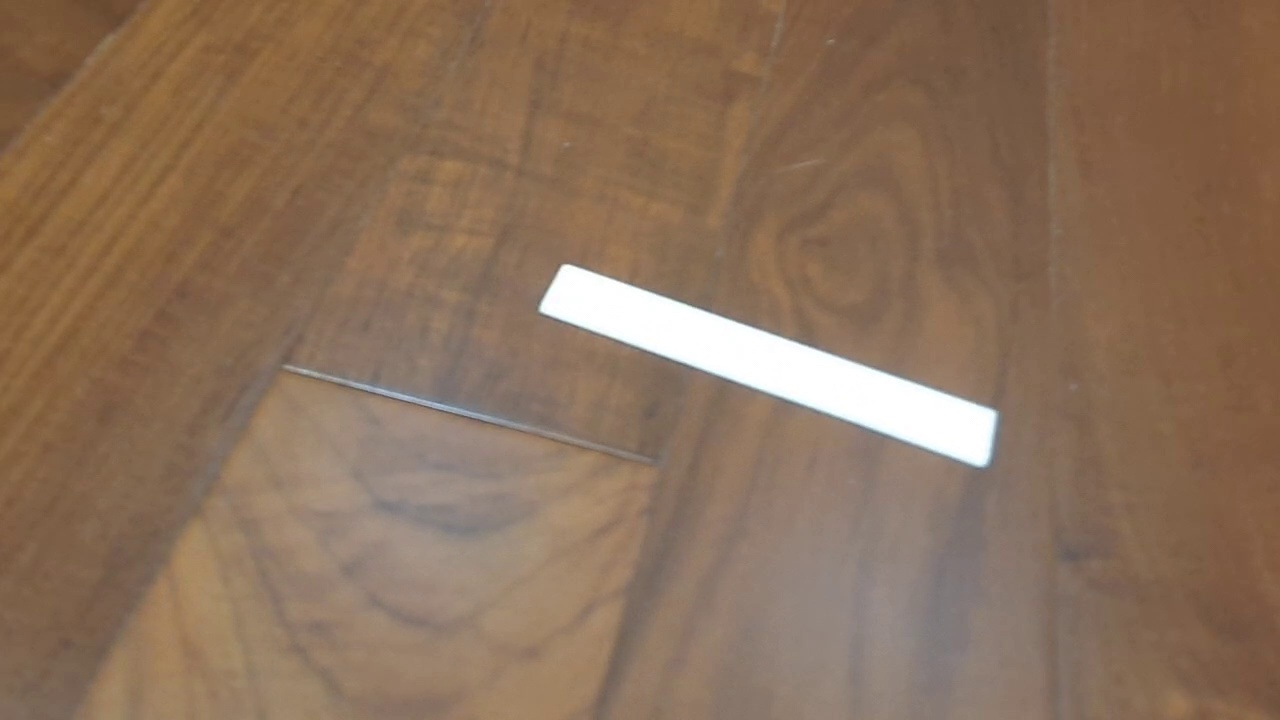ruler: (537, 262, 1000, 471)
